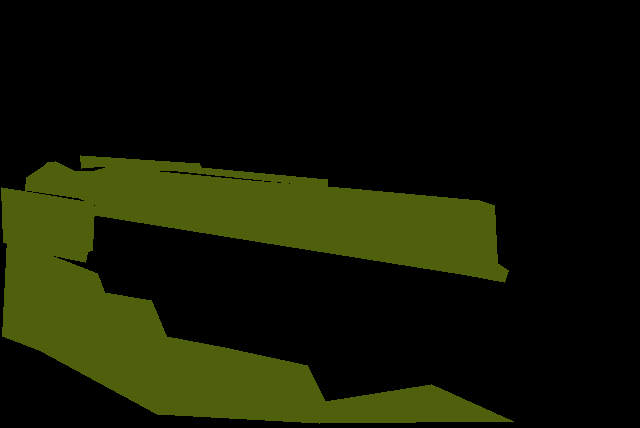Train: (2, 238, 514, 424), (25, 161, 509, 283), (80, 155, 327, 187), (1, 187, 95, 262)
